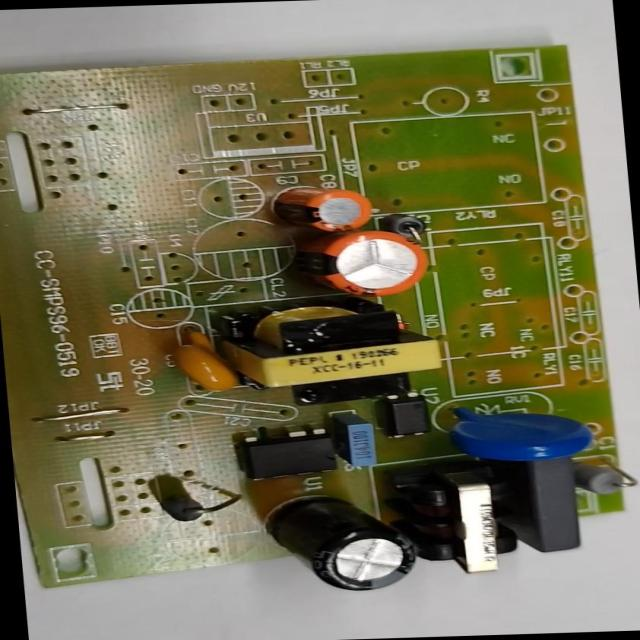Cap1: (308, 229, 432, 296)
Cap2: (274, 182, 370, 233)
Cap3: (269, 492, 415, 594)
MOSFET: (242, 429, 335, 479)
Mov: (446, 405, 593, 462)
Resistor: (576, 458, 639, 494)
Transformer: (222, 301, 446, 399), (404, 476, 534, 571)
